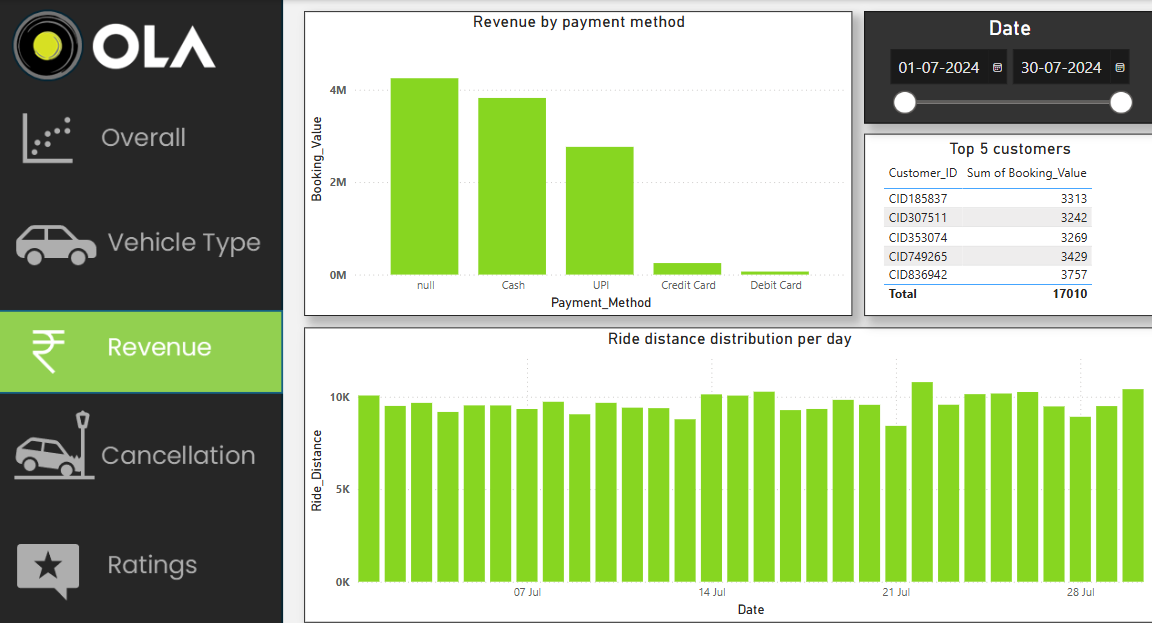

What the dashboard file says about the page in this screenshot:
{"tool":"powerbi","page":{"name":"Revenue","canvas":[1280,720],"ordinal":2},"visuals":[{"type":"actionButton","box":[0,218.4,322.7,92],"z":0},{"type":"actionButton","box":[0,101.8,322.7,92],"z":1000},{"type":"actionButton","box":[0,444.2,322.7,92],"z":2000},{"type":"actionButton","box":[1.2,574.2,322.7,92],"z":3000},{"type":"columnChart","title":"Revenue by payment  method","fields":{"Y":["Sum(Booking csv.Booking_Value)"],"Category":["Booking csv.Payment_Method"]},"box":[347.1,12.9,601.4,334.3],"z":4000},{"type":"columnChart","title":"Ride distance distribution per day","fields":{"Y":["Sum(Booking csv.Ride_Distance)"],"Category":["Booking csv.Date"]},"box":[347.1,360,932.9,324.3],"z":5000},{"type":"tableEx","title":"Top 5 customers","fields":{"Values":["Booking csv.Customer_ID","Sum(Booking csv.Booking_Value)"]},"box":[961.4,147.1,318.6,200],"z":6000},{"type":"slicer","title":"Date","fields":{"Values":["Booking csv.Date"]},"box":[961.4,12.9,318.6,122.9],"z":7000}]}

Visuals, with their boxes on the page's 1280x720 design canvas (x1, y1, x2, y2). These are canvas units, not pixel positions in the 1152x623 screenshot, which may show the page scaled, cropped or inside an application window:
actionButton: bbox(0, 218, 323, 310)
actionButton: bbox(0, 102, 323, 194)
actionButton: bbox(0, 444, 323, 536)
actionButton: bbox(1, 574, 324, 666)
"Revenue by payment  method" columnChart: bbox(347, 13, 948, 347)
"Ride distance distribution per day" columnChart: bbox(347, 360, 1280, 684)
"Top 5 customers" tableEx: bbox(961, 147, 1280, 347)
"Date" slicer: bbox(961, 13, 1280, 136)
